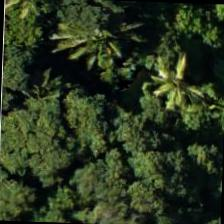Kelapa_Sawit: (122, 40, 214, 132), (47, 0, 140, 75)
